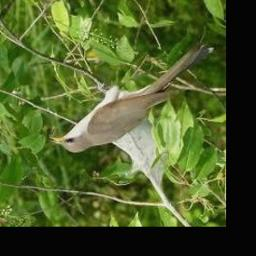Cuckoo: (48, 41, 208, 153)
